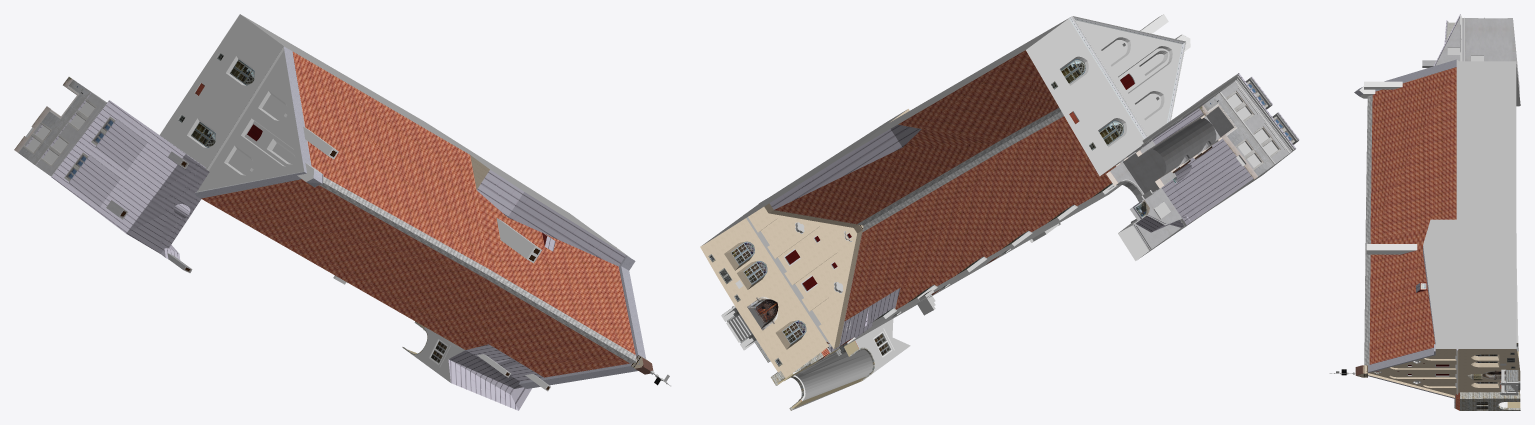
The model's file is Pikk_17.obj.
The picture shows the model from 3 angles, left to right: view 1: azimuth 30°, elevation 25°; view 2: azimuth 150°, elevation 25°; view 3: azimuth 270°, elevation 25°; orthographic projection. The views are drawn at different scales.
Parts seen in each view (by area): view 1: Pikk_17, Lai_14; view 2: Pikk_17, Lai_14; view 3: Pikk_17, Lai_14.
Boxes of the visible parts, bbox=[...] form: Pikk_17: bbox=[160, 14, 670, 410]; Lai_14: bbox=[14, 77, 209, 272]; Pikk_17: bbox=[700, 14, 1190, 410]; Lai_14: bbox=[1103, 73, 1299, 260]; Pikk_17: bbox=[1329, 59, 1520, 410]; Lai_14: bbox=[1422, 14, 1519, 106].
Size of the model in its own units: 65.15 by 46.64 by 29.47.
